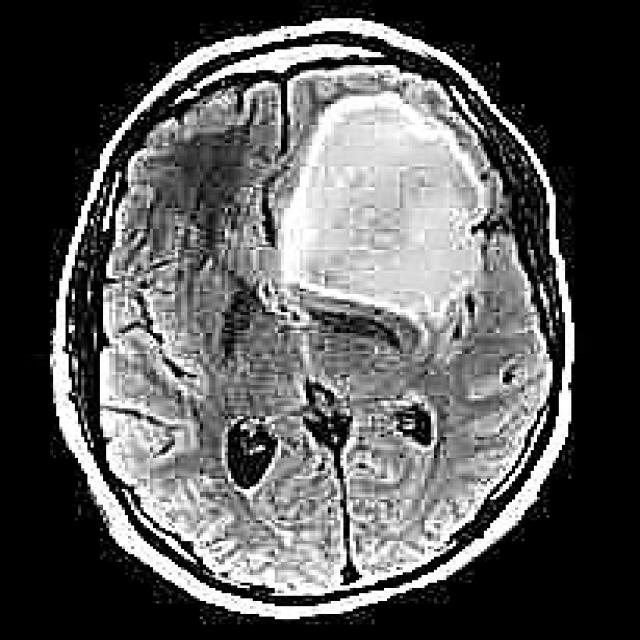Tumor-Cell: (277, 88, 501, 336)
